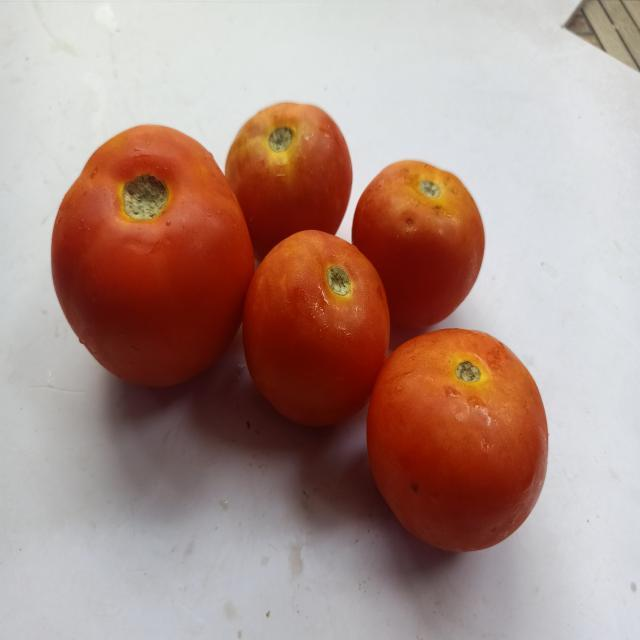Tomato: (38, 110, 255, 397), (359, 314, 562, 567), (238, 225, 392, 457), (348, 158, 491, 330), (222, 91, 359, 256)
